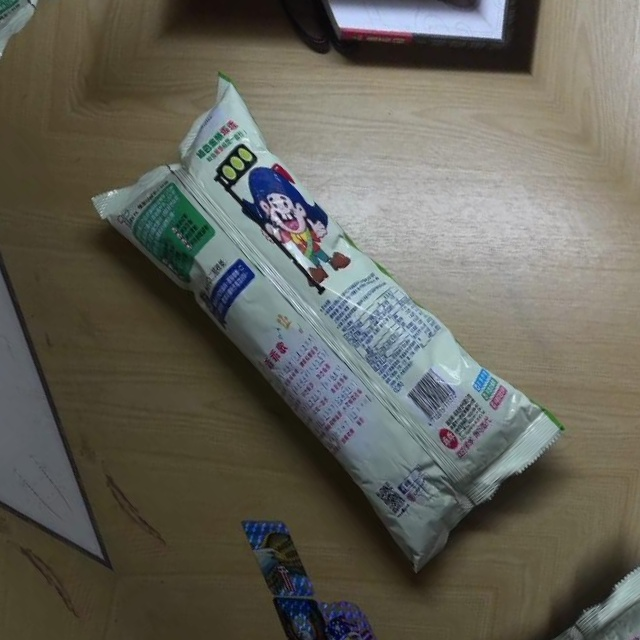Good-Luck: (78, 49, 576, 583)
